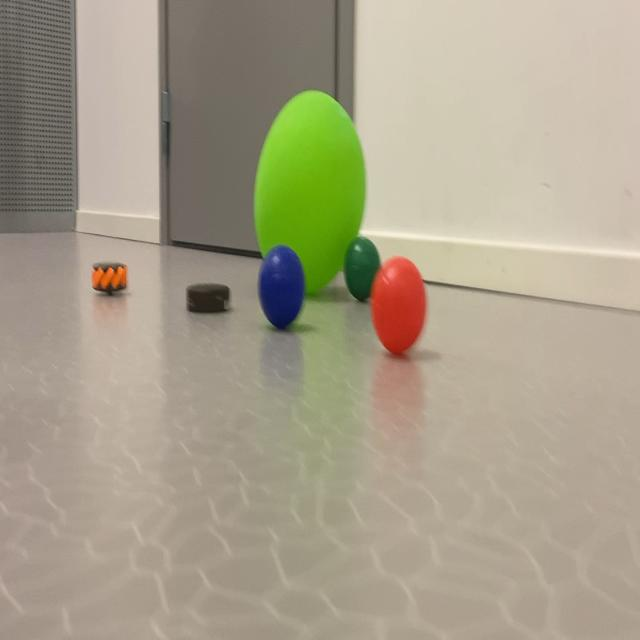7: (364, 251, 432, 372)
green ball: (256, 230, 311, 352)
red ball: (346, 227, 393, 316)
